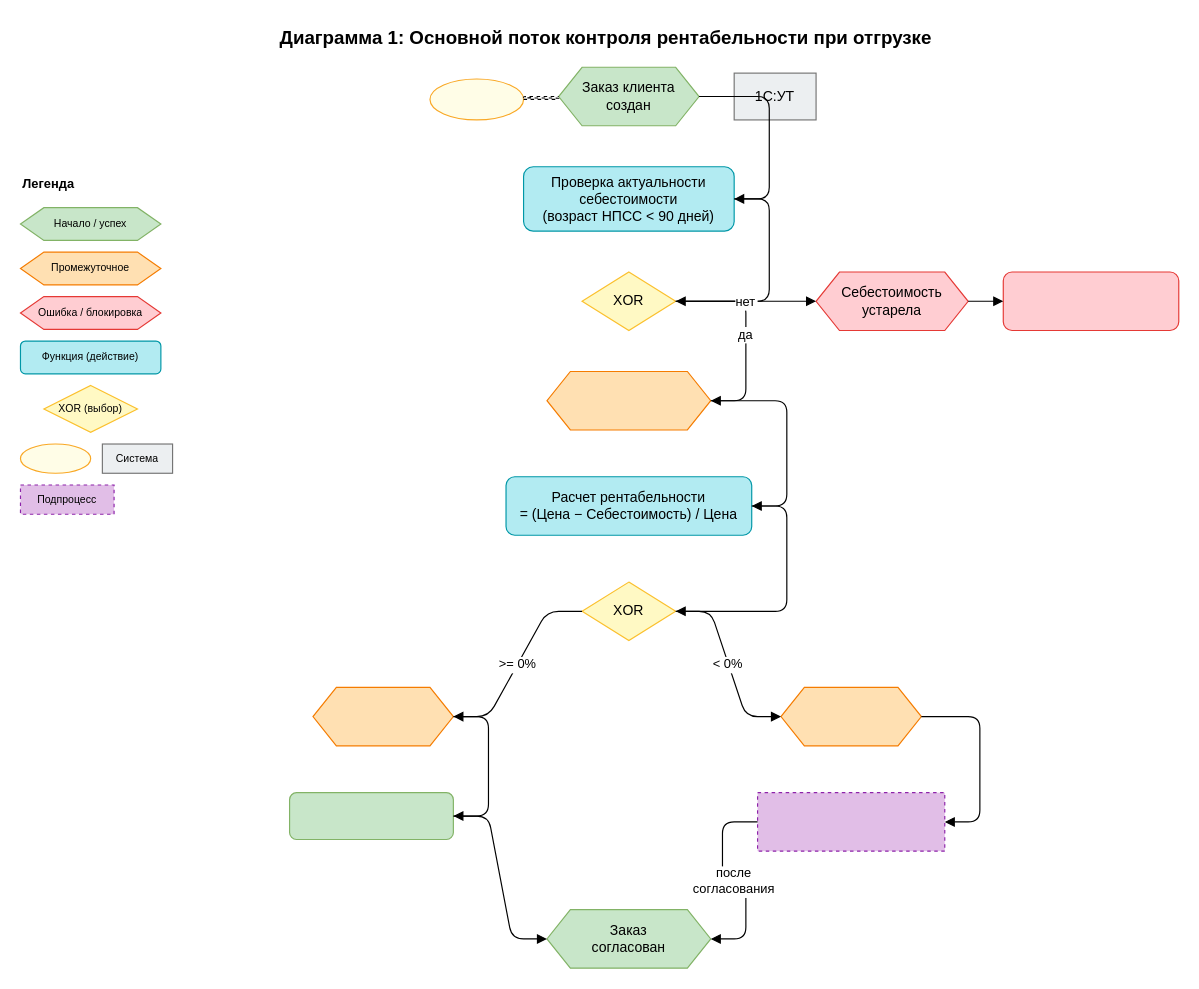
Some shapes in this 1199 by 989 pixel diagram are drawn without their labels. Here are the shapes that lost their labels. From the top down, the centre of each, then its label:
At point (476, 99): "Менеджер".
At point (1090, 301): "Блокировка заказа. Финслужбе обновить НПСС".
At point (628, 400): "Себестоимость актуальна".
At point (55, 458): "Роль".
At point (382, 716): "Рентабельность >= 0%".
At point (850, 716): "Рентабельность < 0%".
At point (370, 815): "Авто-согласование".
At point (850, 821): "Ручное согласование (см. Диаграмму 2)".
